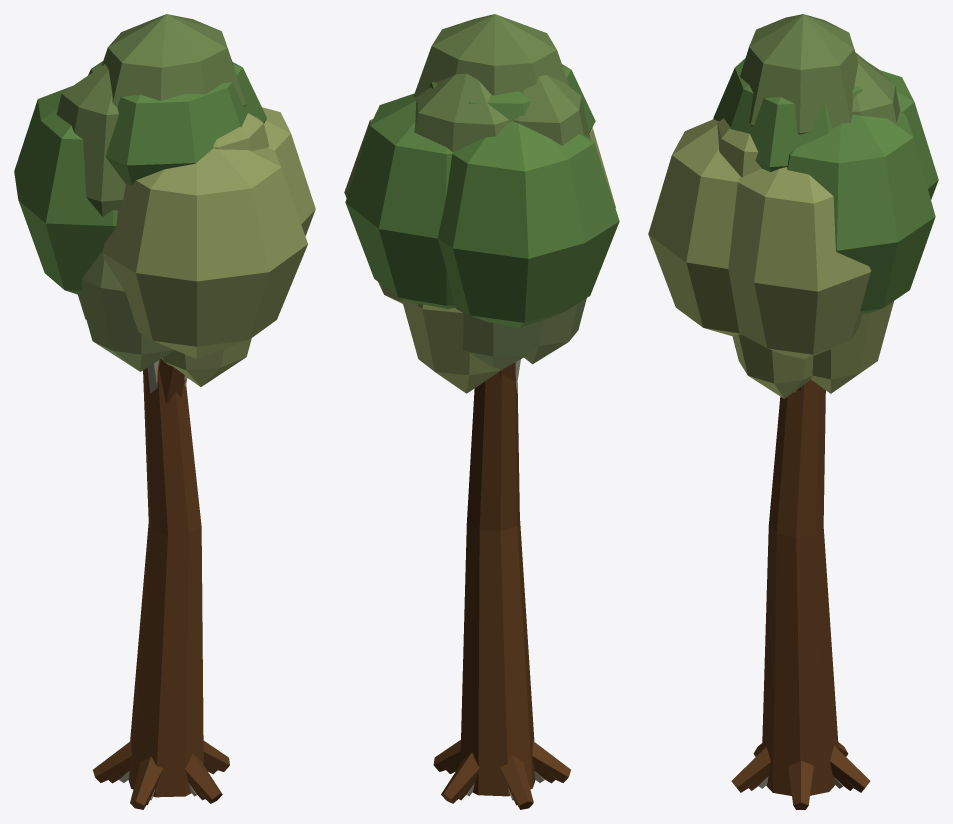
The model's file is town_trees.glb.
3 views of the same model, side by side, from view 1: azimuth 30°, elevation 25°; view 2: azimuth 150°, elevation 25°; view 3: azimuth 270°, elevation 25° (orthographic).
Visible parts, largest first — view 1: town_tree_oak_a, town_tree_elm_a, town_tree_birch_a; view 2: town_tree_oak_a, town_tree_elm_a, town_tree_birch_a; view 3: town_tree_oak_a, town_tree_elm_a, town_tree_birch_a.
Boxes of the visible parts, left/top/right/bottom form: town_tree_oak_a: left=14, top=61, right=315, bottom=809; town_tree_elm_a: left=56, top=14, right=269, bottom=805; town_tree_birch_a: left=78, top=251, right=251, bottom=800; town_tree_oak_a: left=344, top=64, right=619, bottom=809; town_tree_elm_a: left=413, top=14, right=590, bottom=805; town_tree_birch_a: left=401, top=298, right=586, bottom=800; town_tree_oak_a: left=648, top=52, right=938, bottom=809; town_tree_elm_a: left=717, top=14, right=900, bottom=790; town_tree_birch_a: left=732, top=301, right=893, bottom=788.
Bounding box in the file's own units: 2.57 × 7.12 × 2.44.
